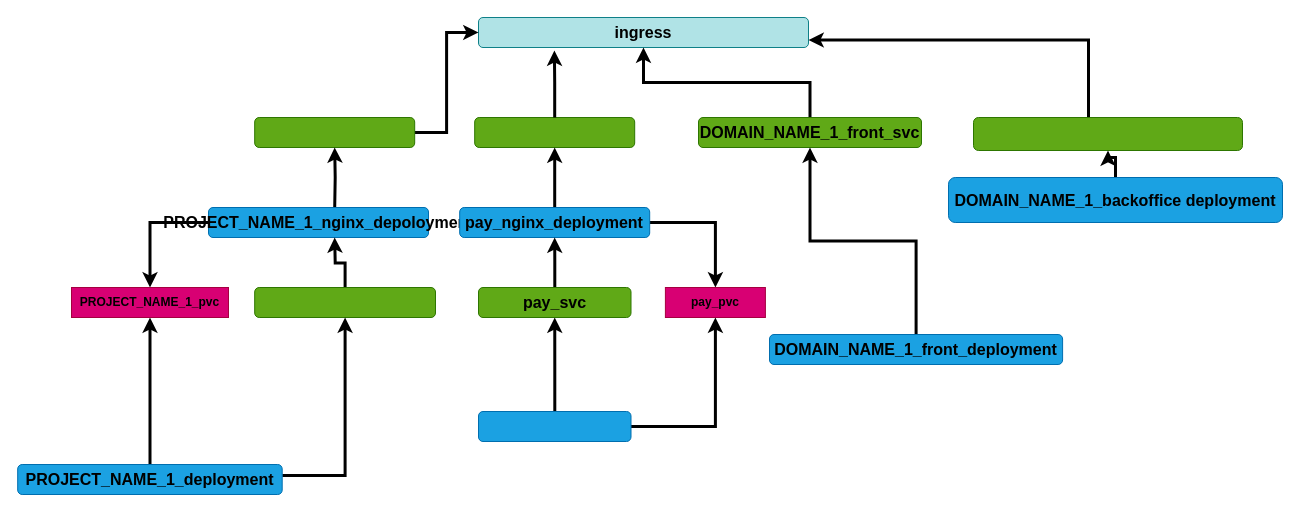
Some shapes in this 1300 by 512 pixel diagram are drawn without their labels. The box of each missing label's shape, as (x1, y1, x2, y2) in pixels:
DOMAIN_NAME_1_backoffice_svc: (972, 116, 1242, 150)
pay _deployment: (478, 410, 631, 442)
pay_nginx_svc: (474, 116, 635, 148)
PROJECT_NAME_1_nginx_svc: (254, 116, 415, 148)
PROJECT_NAME_1_svc: (254, 286, 436, 318)
